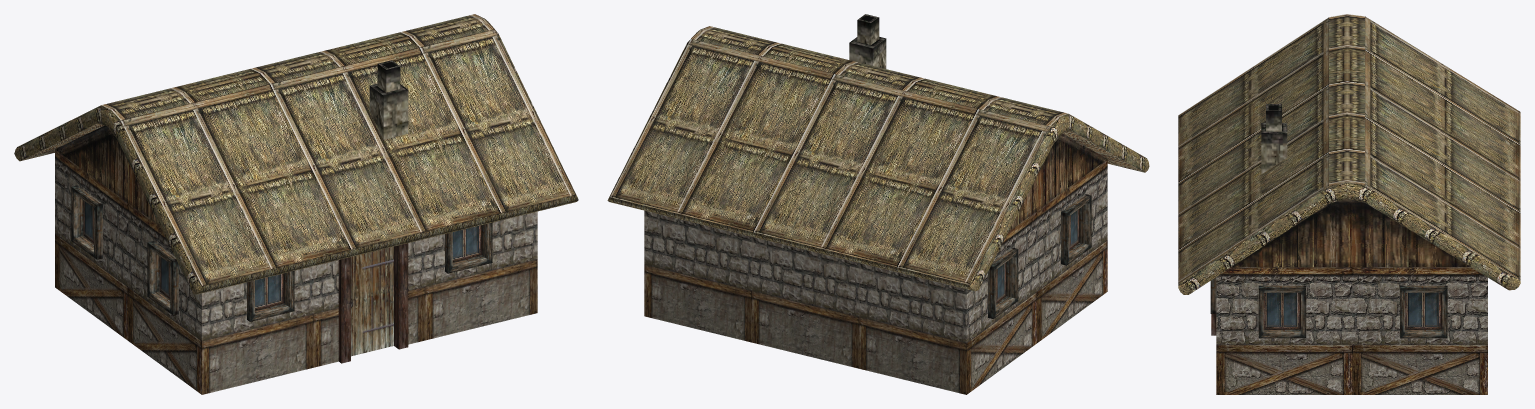
File: rd_house3.glb
3 views of the same model, side by side, from view 1: azimuth 30°, elevation 25°; view 2: azimuth 150°, elevation 25°; view 3: azimuth 270°, elevation 25° (orthographic). The views are drawn at different scales.
Visible parts, largest first — view 1: rd_house3; view 2: rd_house3; view 3: rd_house3.
Part boxes in pixels (<box>): rd_house3: <box>14,14,578,394</box>; rd_house3: <box>607,14,1149,394</box>; rd_house3: <box>1178,14,1520,394</box>.
Bounding box in the file's own units: 7.72 × 4.91 × 6.5.
8 materials, 8 textured.
